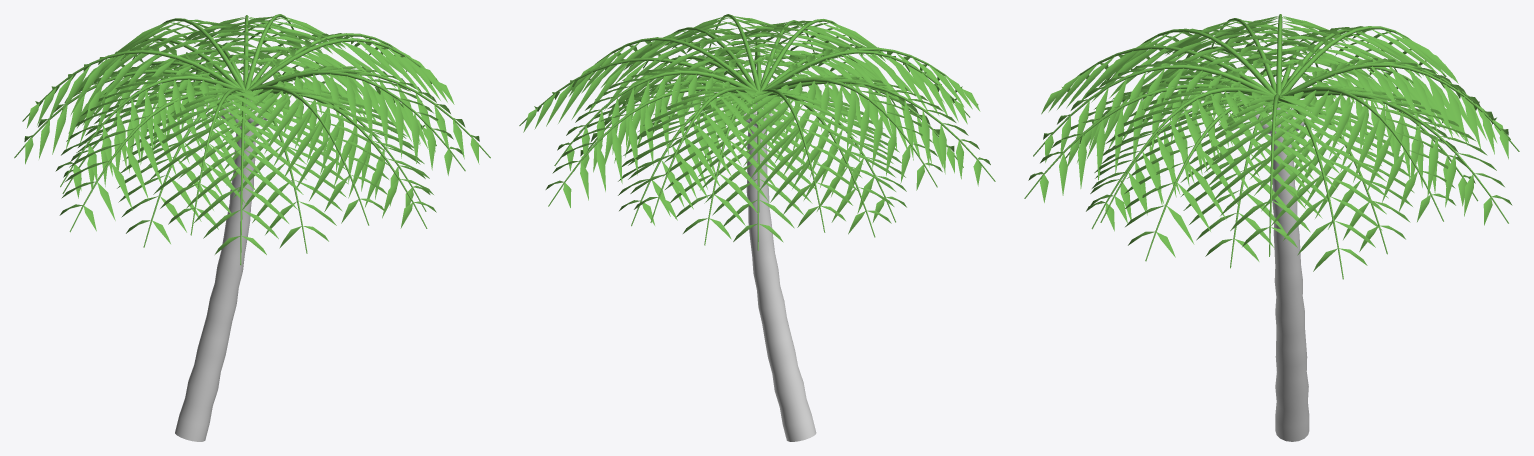
The model's file is 03_Palmiye_Agaci.fbx.
3 views of the same model, side by side, from view 1: azimuth 30°, elevation 25°; view 2: azimuth 150°, elevation 25°; view 3: azimuth 270°, elevation 25° (orthographic). The views are drawn at different scales.
Visible parts, largest first — view 1: 03_Palmiye_Agaci; view 2: 03_Palmiye_Agaci; view 3: 03_Palmiye_Agaci.
Boxes of the visible parts, x1=… form: 03_Palmiye_Agaci: x1=14, y1=14, x2=490, y2=441; 03_Palmiye_Agaci: x1=519, y1=14, x2=995, y2=441; 03_Palmiye_Agaci: x1=1024, y1=14, x2=1519, y2=441.
Bounding box in the file's own units: 802 × 670 × 757.
